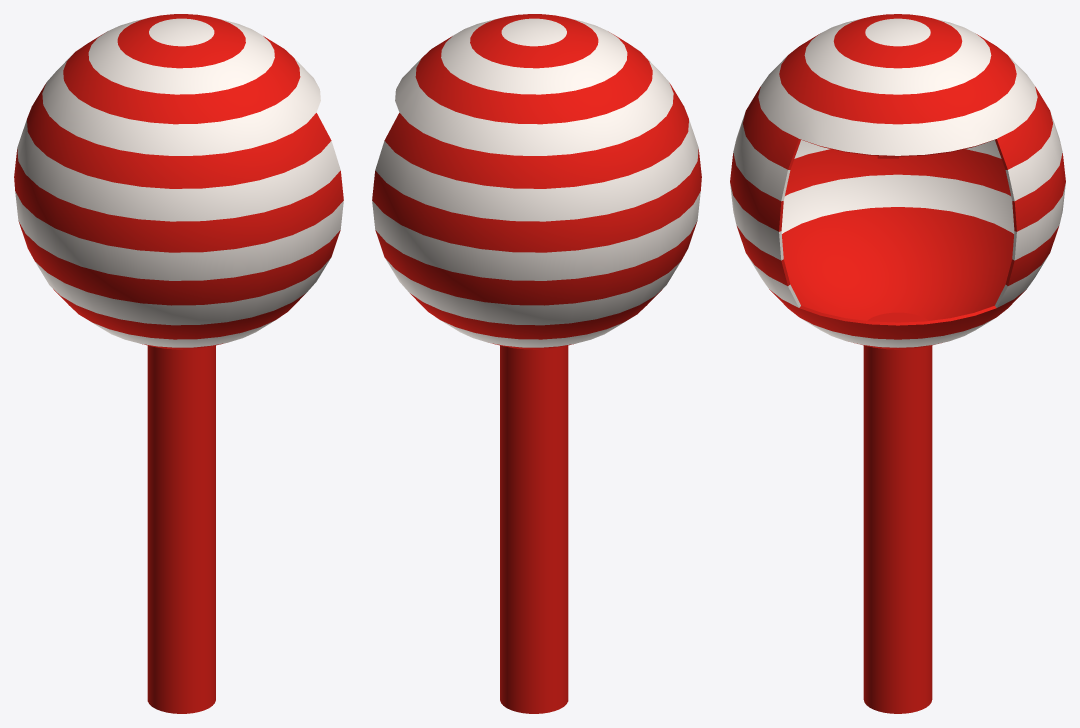
Rendered from Bgloveplatform.fbx.
The picture shows the model from 3 angles, left to right: view 1: azimuth 30°, elevation 25°; view 2: azimuth 150°, elevation 25°; view 3: azimuth 270°, elevation 25°; orthographic projection.
Parts seen in each view (by area): view 1: Sphere; view 2: Sphere; view 3: Sphere.
Boxes of the visible parts, x1,y1,x2,y2 form: Sphere: (14,14,343,713); Sphere: (372,14,701,713); Sphere: (730,14,1065,713).
Size of the model in its own units: 187 by 449 by 204.
